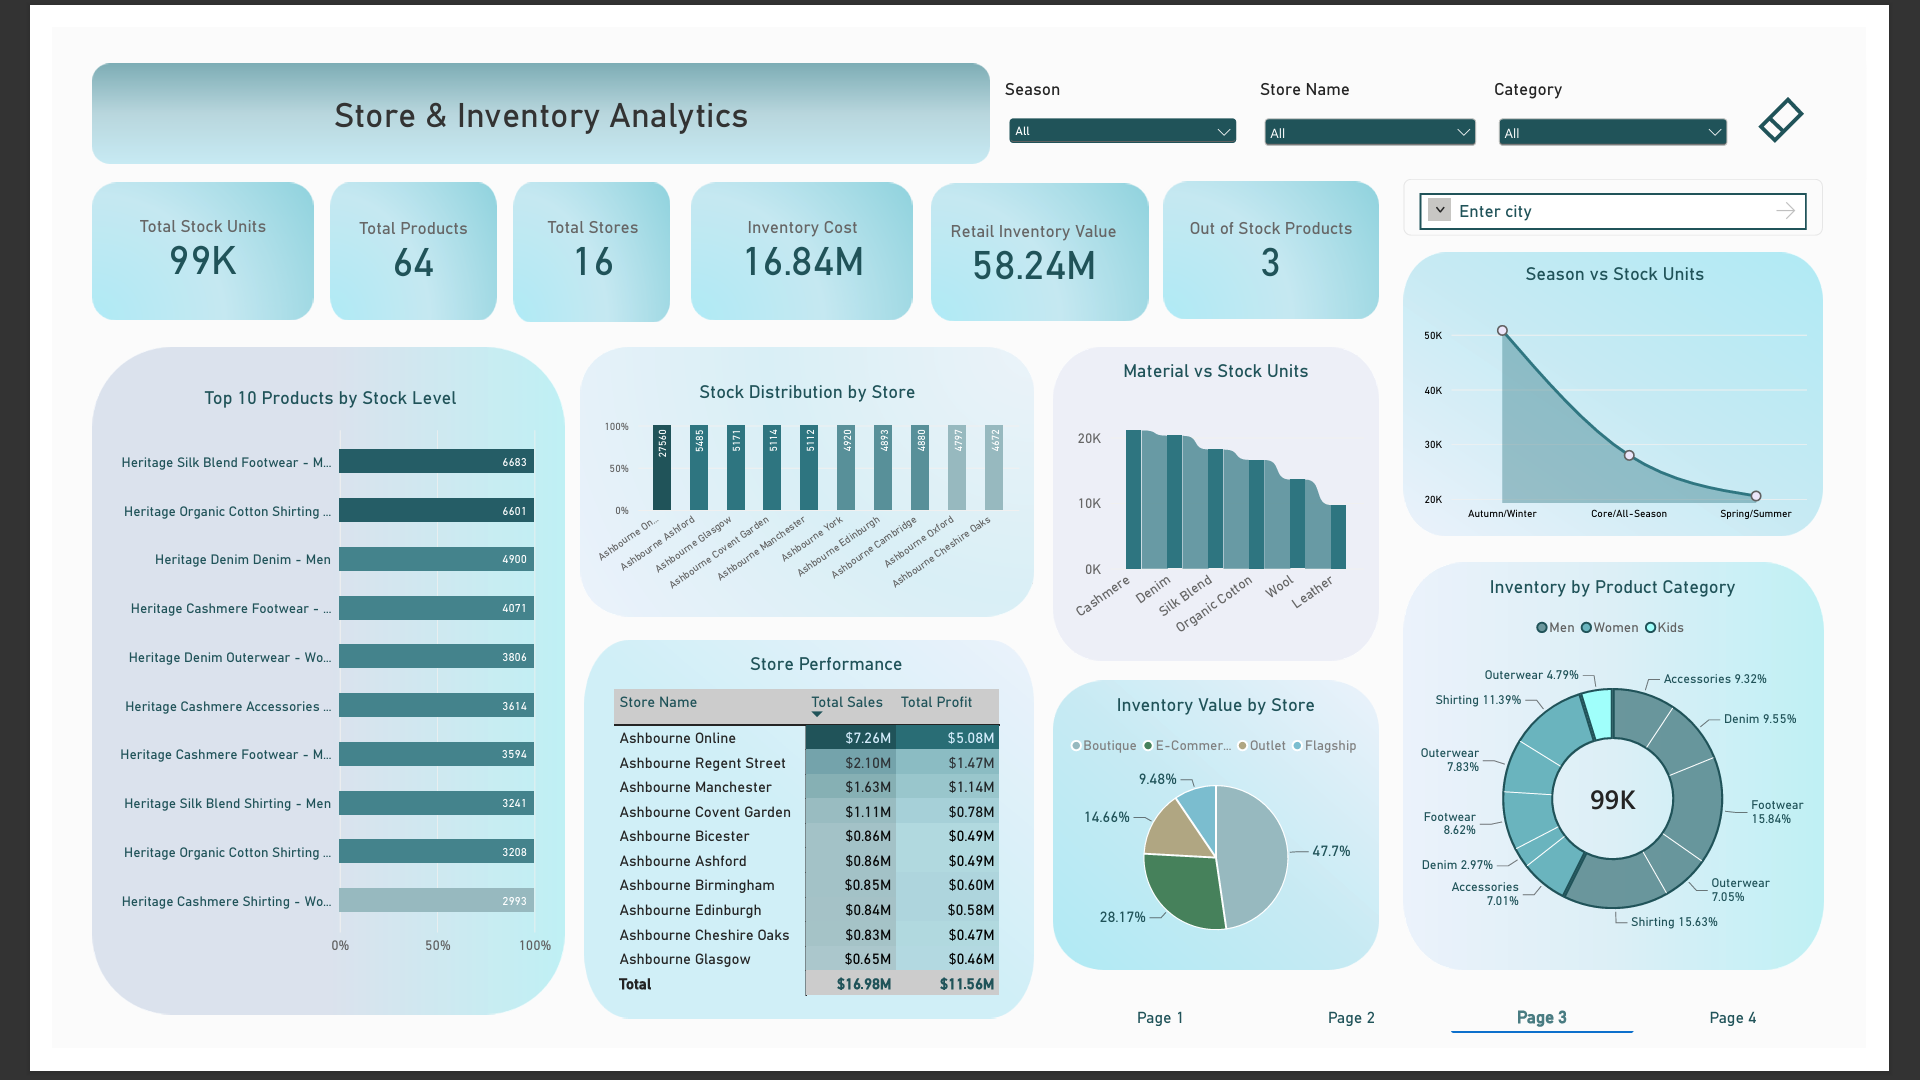

What the dashboard file says about the page in this screenshot:
{"tool":"powerbi","page":{"name":"Page 3","canvas":[1920,1080],"ordinal":2},"visuals":[{"type":"image","box":[1429.6,566.4,445.2,430.7],"z":0},{"type":"image","box":[1058.7,691.3,345.6,305.8],"z":1000},{"type":"image","box":[1430,238,444,300],"z":2000},{"type":"image","box":[1058.7,338.4,345.6,331.2],"z":3000},{"type":"image","box":[562.8,647.9,475.9,399.9],"z":4000},{"type":"image","box":[42,338,500,706],"z":5000},{"type":"image","box":[559.2,338.4,479.6,284.1],"z":6000},{"type":"image","box":[1176.3,162.9,228,146.6],"z":7000},{"type":"image","box":[930.2,164.7,229.8,146.6],"z":8000},{"type":"image","box":[676,164,234,146],"z":9000},{"type":"image","box":[488,164,166,148],"z":10000},{"type":"image","box":[294,164,176,146],"z":11000},{"type":"image","box":[42,164,234,146],"z":12000},{"type":"image","box":[42,38,950,106],"z":13000},{"type":"shape","box":[41.6,38,950.1,106.8],"z":14000},{"type":"cardVisual","fields":{"Data":["Measures_Table.Total Products"]},"box":[294,162,176,150],"z":15000},{"type":"cardVisual","fields":{"Data":["Measures_Table.Total Stores"]},"box":[484,162,175.5,148.4],"z":16000},{"type":"cardVisual","fields":{"Data":["Measures_Table.Inventory Value (Cost)"]},"box":[676.8,161.1,234,150],"z":17000},{"type":"cardVisual","fields":{"Data":["Measures_Table.Total Stock Units"]},"box":[42,160,234,150],"z":18000},{"type":"hundredPercentStackedColumnChart","title":"Stock Distribution by Store","fields":{"Category":["Ashbourne_Stores.store_name"],"Y":["Measures_Table.Total Stock Units"]},"box":[559.2,360.1,479.6,262.4],"z":19000},{"type":"donutChart","title":"Inventory by Product Category","fields":{"Category":["Ashbourne_Products.category"],"Series":["Ashbourne_Products.sub_category"],"Y":["Measures_Table.Total Stock Units"]},"box":[1427.8,566.4,447,430.7],"z":20000},{"type":"cardVisual","fields":{"Data":["Measures_Table.Retail Inventory Value"]},"box":[930.2,164.7,217.2,150.2],"z":21000},{"type":"cardVisual","fields":{"Data":["Measures_Table.Out of Stock Products"]},"box":[1176.3,164.7,228,144.8],"z":22000},{"type":"hundredPercentStackedBarChart","title":"Top 10 Products by Stock Level","fields":{"Category":["Ashbourne_Products.product_name"],"Y":["Measures_Table.Total Stock Units"]},"box":[44,366,500,632],"z":23000},{"type":"pieChart","title":"Inventory Value by Store","fields":{"Category":["Ashbourne_Stores.store_type"],"Y":["Measures_Table.Inventory Value (Cost)"]},"box":[1058.7,691.3,345.6,305.8],"z":24000},{"type":"ribbonChart","title":"Material vs Stock Units","fields":{"Category":["Ashbourne_Products.material"],"Y":["Measures_Table.Total Stock Units"]},"box":[1058.7,338.4,345.6,331.2],"z":25000},{"type":"slicer","title":"Season","fields":{"Values":["Ashbourne_Products.season"]},"box":[1008,54,250,90],"z":26000},{"type":"slicer","title":"Store Name","fields":{"Values":["Ashbourne_Stores.store_name"]},"box":[1278,54,234,90],"z":27000},{"type":"slicer","title":"Category","fields":{"Values":["Ashbourne_Products.sub_category"]},"box":[1526,54,252,90],"z":28000},{"type":"areaChart","title":"Season vs Stock Units","fields":{"Category":["Ashbourne_Products.season"],"Y":["Measures_Table.Total Stock Units"]},"box":[1435.1,235.3,437.9,304],"z":29000},{"type":"textSlicer","fields":{"Values":["Ashbourne_Stores.city"]},"box":[1430,160,444,60],"z":30000},{"type":"actionButton","box":[1778,46,104,106],"z":31000},{"type":"pageNavigator","box":[1076,1030,800,34],"z":32000},{"type":"pivotTable","title":"Store Performance","fields":{"Rows":["Ashbourne_Stores.store_name"],"Values":["Measures_Table.Total_Sales","Measures_Table.Total_Profit"]},"box":[579.1,647.9,479.6,396.3],"z":33000}]}

Visuals, with their boxes in screenshot pixels (x1, y1, x2, y2), scaled from the page's 1920x1080 canvas onto the 1920x1080 screenshot:
image: {"x1": 1430, "y1": 566, "x2": 1875, "y2": 997}
image: {"x1": 1059, "y1": 691, "x2": 1404, "y2": 997}
image: {"x1": 1430, "y1": 238, "x2": 1874, "y2": 538}
image: {"x1": 1059, "y1": 338, "x2": 1404, "y2": 670}
image: {"x1": 563, "y1": 648, "x2": 1039, "y2": 1048}
image: {"x1": 42, "y1": 338, "x2": 542, "y2": 1044}
image: {"x1": 559, "y1": 338, "x2": 1039, "y2": 622}
image: {"x1": 1176, "y1": 163, "x2": 1404, "y2": 310}
image: {"x1": 930, "y1": 165, "x2": 1160, "y2": 311}
image: {"x1": 676, "y1": 164, "x2": 910, "y2": 310}
image: {"x1": 488, "y1": 164, "x2": 654, "y2": 312}
image: {"x1": 294, "y1": 164, "x2": 470, "y2": 310}
image: {"x1": 42, "y1": 164, "x2": 276, "y2": 310}
image: {"x1": 42, "y1": 38, "x2": 992, "y2": 144}
shape: {"x1": 42, "y1": 38, "x2": 992, "y2": 145}
cardVisual - Measures_Table.Total Products: {"x1": 294, "y1": 162, "x2": 470, "y2": 312}
cardVisual - Measures_Table.Total Stores: {"x1": 484, "y1": 162, "x2": 660, "y2": 310}
cardVisual - Measures_Table.Inventory Value (Cost): {"x1": 677, "y1": 161, "x2": 911, "y2": 311}
cardVisual - Measures_Table.Total Stock Units: {"x1": 42, "y1": 160, "x2": 276, "y2": 310}
"Stock Distribution by Store" hundredPercentStackedColumnChart: {"x1": 559, "y1": 360, "x2": 1039, "y2": 622}
"Inventory by Product Category" donutChart: {"x1": 1428, "y1": 566, "x2": 1875, "y2": 997}
cardVisual - Measures_Table.Retail Inventory Value: {"x1": 930, "y1": 165, "x2": 1147, "y2": 315}
cardVisual - Measures_Table.Out of Stock Products: {"x1": 1176, "y1": 165, "x2": 1404, "y2": 310}
"Top 10 Products by Stock Level" hundredPercentStackedBarChart: {"x1": 44, "y1": 366, "x2": 544, "y2": 998}
"Inventory Value by Store" pieChart: {"x1": 1059, "y1": 691, "x2": 1404, "y2": 997}
"Material vs Stock Units" ribbonChart: {"x1": 1059, "y1": 338, "x2": 1404, "y2": 670}
"Season" slicer: {"x1": 1008, "y1": 54, "x2": 1258, "y2": 144}
"Store Name" slicer: {"x1": 1278, "y1": 54, "x2": 1512, "y2": 144}
"Category" slicer: {"x1": 1526, "y1": 54, "x2": 1778, "y2": 144}
"Season vs Stock Units" areaChart: {"x1": 1435, "y1": 235, "x2": 1873, "y2": 539}
textSlicer - Ashbourne_Stores.city: {"x1": 1430, "y1": 160, "x2": 1874, "y2": 220}
actionButton: {"x1": 1778, "y1": 46, "x2": 1882, "y2": 152}
pageNavigator: {"x1": 1076, "y1": 1030, "x2": 1876, "y2": 1064}
"Store Performance" pivotTable: {"x1": 579, "y1": 648, "x2": 1059, "y2": 1044}
